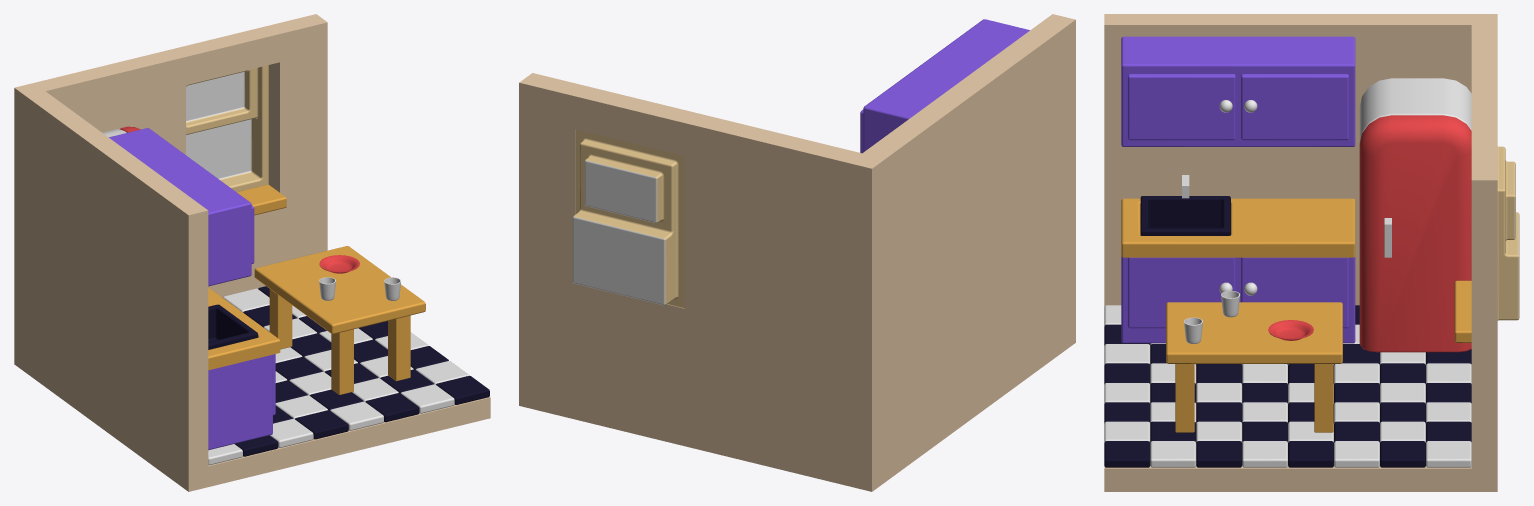
Rendered from Kitchen1.fbx.
3 renders of one model, left to right at view 1: azimuth 30°, elevation 25°; view 2: azimuth 150°, elevation 25°; view 3: azimuth 270°, elevation 25°, orthographic. The views are drawn at different scales.
Visible parts, largest first — view 1: Plane, Plane.001, Cube.003, Plane.011, Plane.007, Plane.003, Plane.012, Plane.005, Cube.001, Cube.005, Circle.002; view 2: Plane, Cube.003, Plane.007; view 3: Plane, Plane.001, Plane.004, Plane.008, Plane.007, Plane.006, Plane.005, Plane.011, Plane.002, Cube.001, Cube.003, Plane.012 (+5 smaller).
Boxes of the visible parts, x1=… form: Plane: x1=14, y1=14, x2=490, y2=491; Plane.001: x1=208, y1=286, x2=489, y2=465; Cube.003: x1=186, y1=65, x2=268, y2=192; Plane.011: x1=254, y1=246, x2=425, y2=334; Plane.007: x1=109, y1=128, x2=251, y2=286; Plane.003: x1=208, y1=354, x2=272, y2=450; Plane.012: x1=269, y1=289, x2=410, y2=394; Plane.005: x1=208, y1=287, x2=280, y2=370; Cube.001: x1=208, y1=304, x2=258, y2=349; Cube.005: x1=237, y1=184, x2=286, y2=215; Circle.002: x1=319, y1=255, x2=359, y2=273; Plane: x1=519, y1=14, x2=1075, y2=491; Cube.003: x1=572, y1=129, x2=684, y2=308; Plane.007: x1=863, y1=19, x2=1029, y2=152; Plane: x1=1104, y1=14, x2=1497, y2=491; Plane.001: x1=1104, y1=305, x2=1471, y2=467; Plane.004: x1=1359, y1=115, x2=1471, y2=352; Plane.008: x1=1127, y1=74, x2=1348, y2=140; Plane.007: x1=1121, y1=36, x2=1355, y2=146; Plane.006: x1=1127, y1=257, x2=1348, y2=328; Plane.005: x1=1121, y1=198, x2=1355, y2=257; Plane.011: x1=1166, y1=302, x2=1342, y2=363; Plane.002: x1=1359, y1=78, x2=1471, y2=142; Cube.001: x1=1140, y1=196, x2=1230, y2=235; Cube.003: x1=1497, y1=146, x2=1519, y2=320; Plane.012: x1=1175, y1=364, x2=1333, y2=432.
Size of the model in its own units: 800 by 700 by 845.
